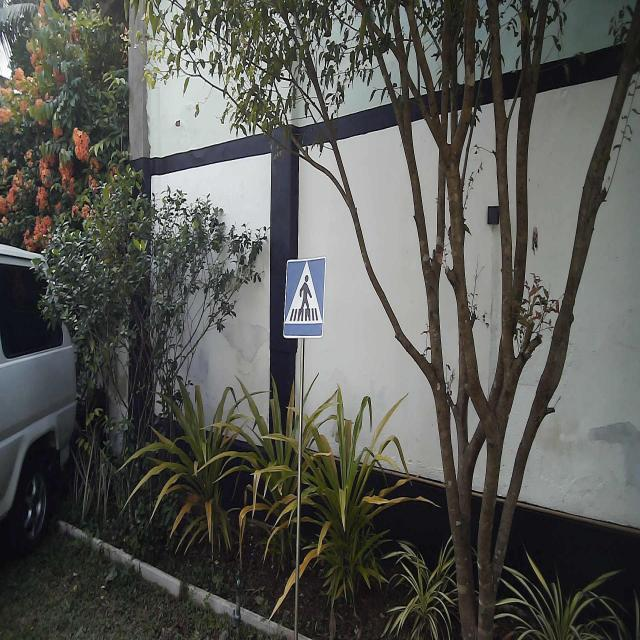crosswalk_sign: (282, 255, 328, 342)
